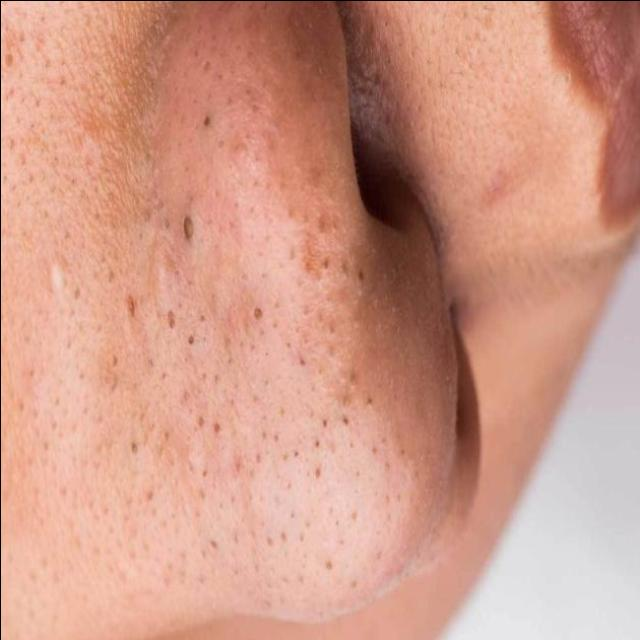blackhead: (232, 173, 404, 597)
